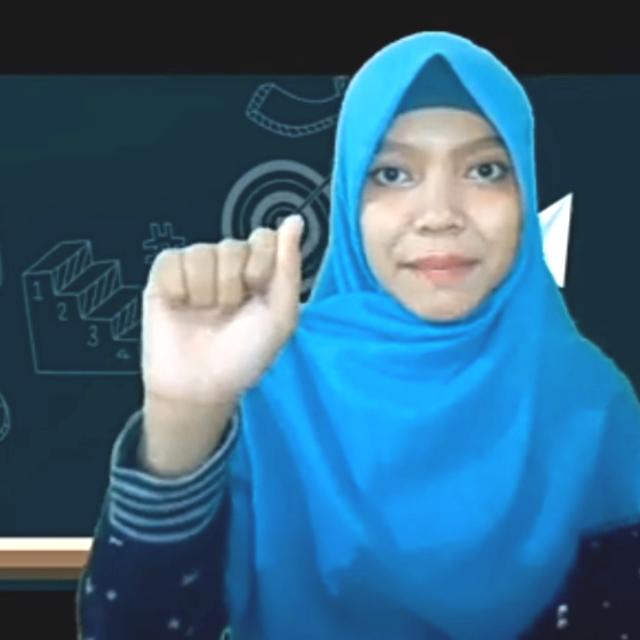A: (137, 213, 305, 407)
